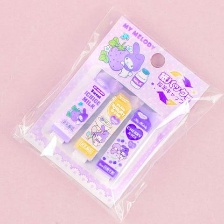carton: (72, 89, 135, 163), (89, 107, 152, 181), (49, 75, 112, 145)
